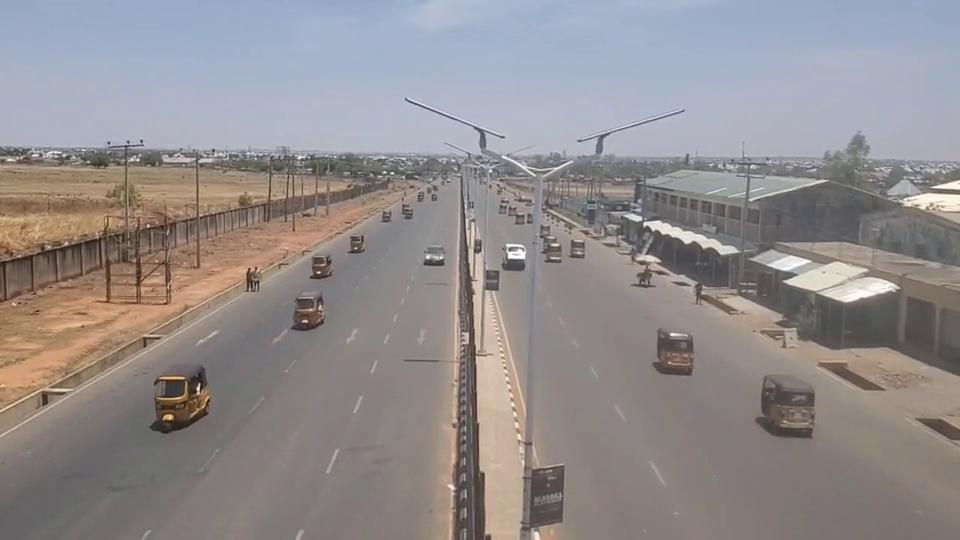keke: (152, 363, 210, 428), (760, 373, 815, 436), (655, 327, 694, 374), (292, 289, 325, 329)
